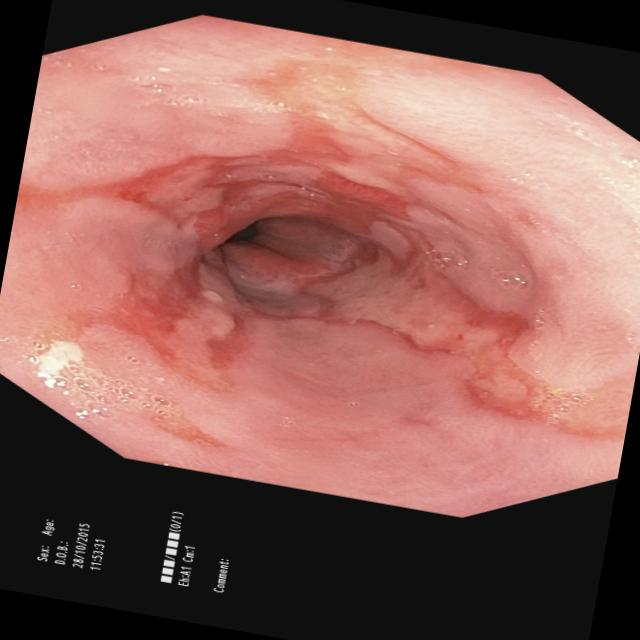esophagitis: (9, 43, 637, 452)
